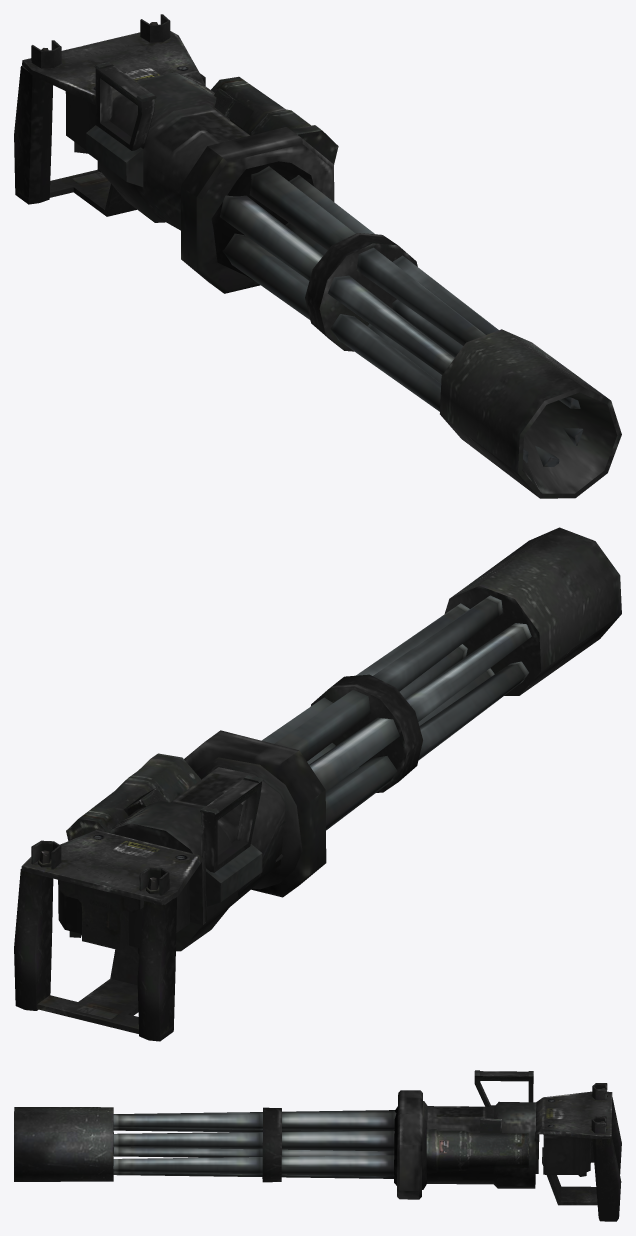
File: Vulcan.FBX
3 views of the same model, one above another, from view 1: azimuth 30°, elevation 25°; view 2: azimuth 150°, elevation 25°; view 3: azimuth 270°, elevation 25° (orthographic). The views are drawn at different scales.
Parts seen in each view (by area): view 1: DrawCall_0889; view 2: DrawCall_0889; view 3: DrawCall_0889.
Boxes of the visible parts, box(x1,y1,x2,y2) form: DrawCall_0889: box(14, 14, 621, 498); DrawCall_0889: box(14, 527, 621, 1041); DrawCall_0889: box(14, 1070, 621, 1221).
Bounding box in the file's own units: 8.97 × 8.85 × 44.06.
